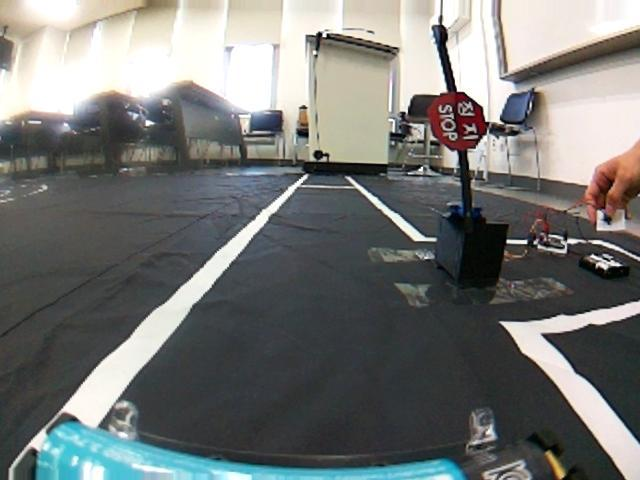sign_stop: (425, 92, 488, 153)
straight: (0, 173, 640, 480)
